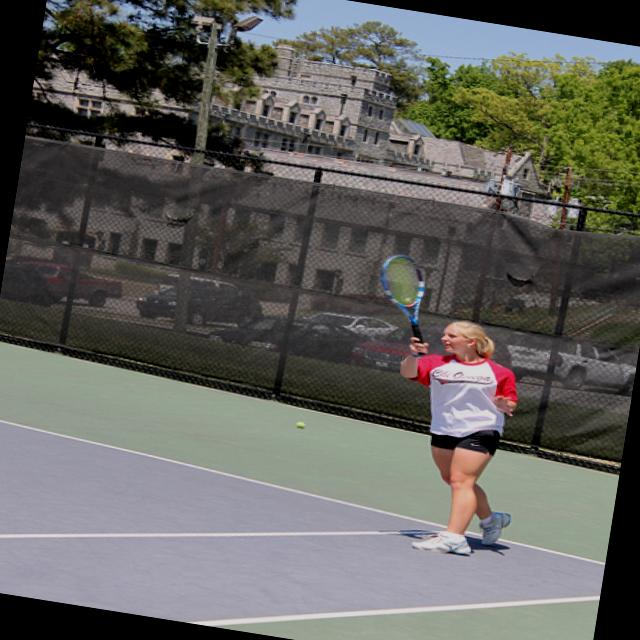Vehicle: (498, 326, 640, 398), (208, 304, 368, 366), (136, 272, 266, 334), (14, 256, 128, 312), (302, 307, 406, 343), (50, 228, 97, 276), (352, 336, 411, 374)
